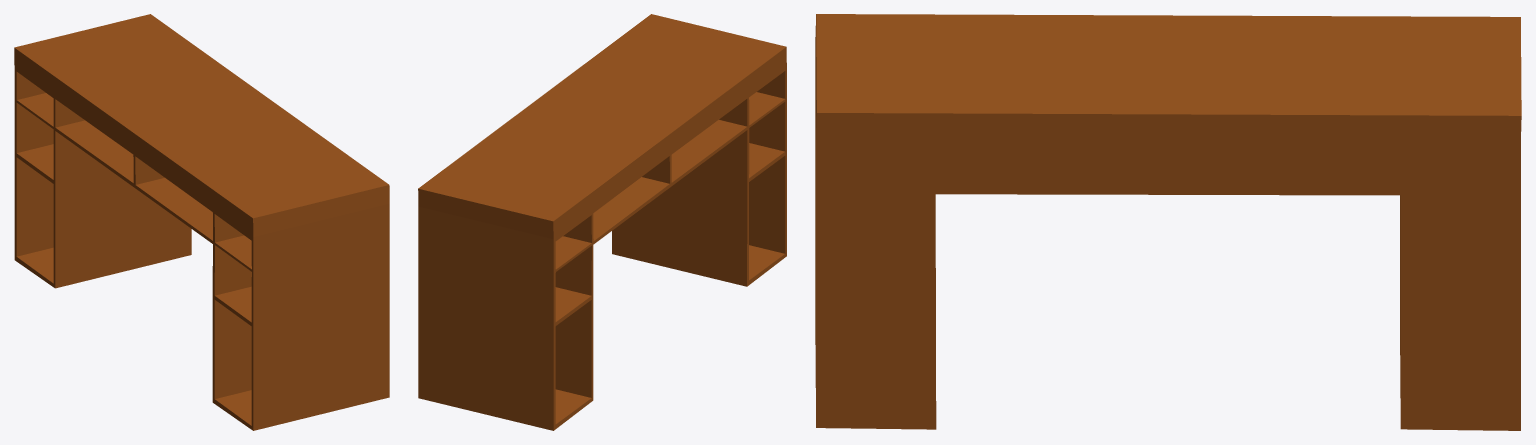
Rendered from Escritorio.fbx.
The picture shows the model from 3 angles, left to right: view 1: azimuth 30°, elevation 25°; view 2: azimuth 150°, elevation 25°; view 3: azimuth 270°, elevation 25°; orthographic projection. The views are drawn at different scales.
Visible parts, largest first — view 1: Cube.030; view 2: Cube.030; view 3: Cube.030.
Boxes of the visible parts, box(x1,y1,x2,y2) form: Cube.030: box(14, 14, 389, 430); Cube.030: box(418, 14, 786, 430); Cube.030: box(815, 14, 1521, 430).
Bounding box in the file's own units: 0.3687 × 0.5491 × 1.1.
